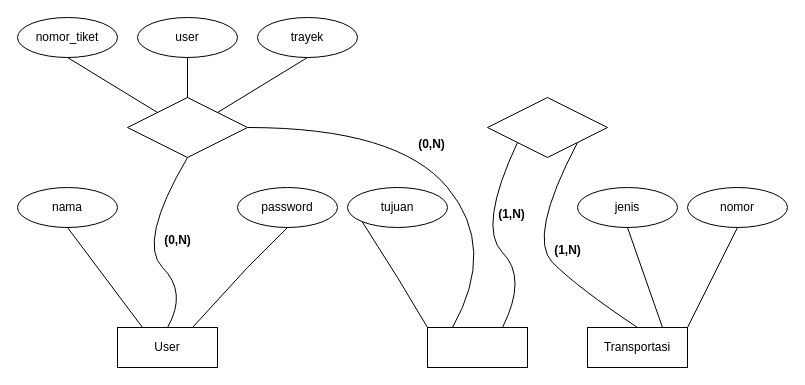
Some shapes in this 805 by 385 pixel diagram are drawn without their labels. The shapes that lost their labels are listed below. From the top down, each one's centre as x and y in pixels, then its label:
At (187,127): "Pemesanan".
At (547,127): "Melayani".
At (477,347): "Rute".
